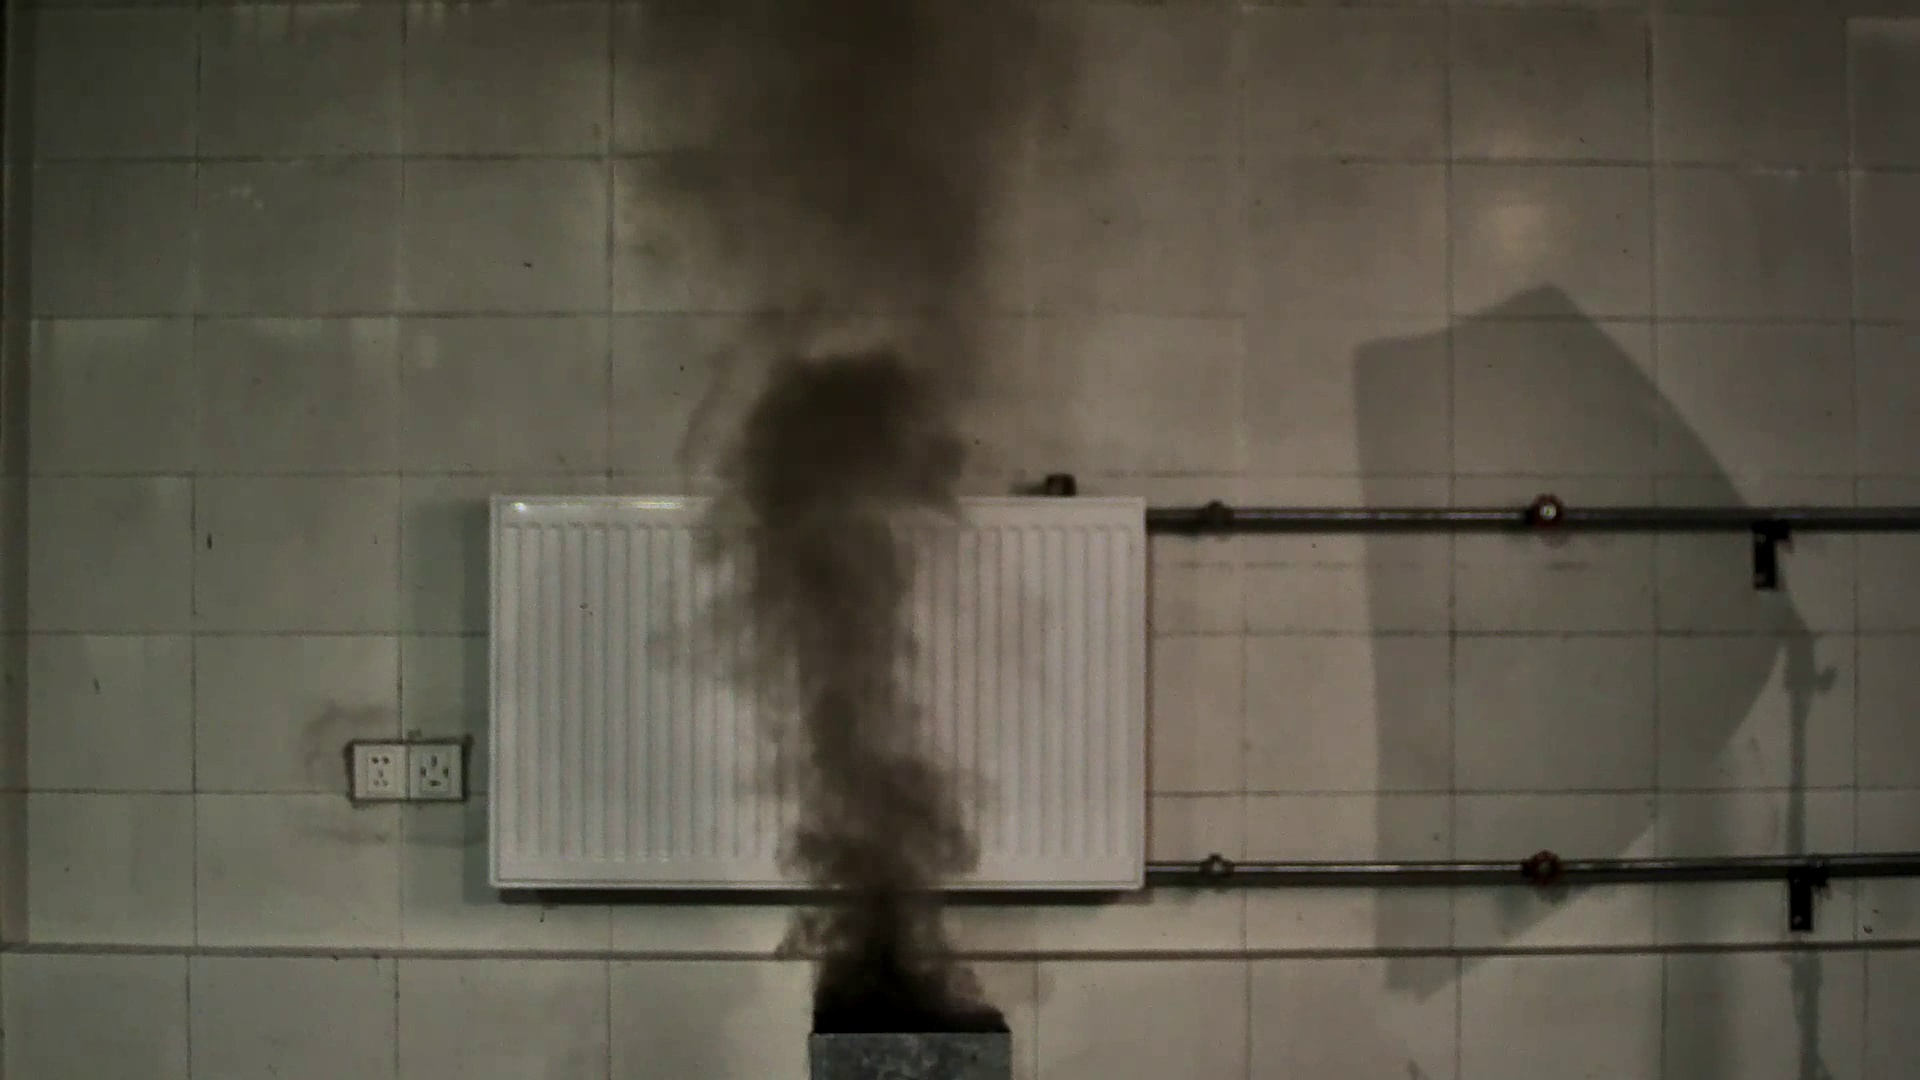smoke: (600, 57, 1087, 1009)
